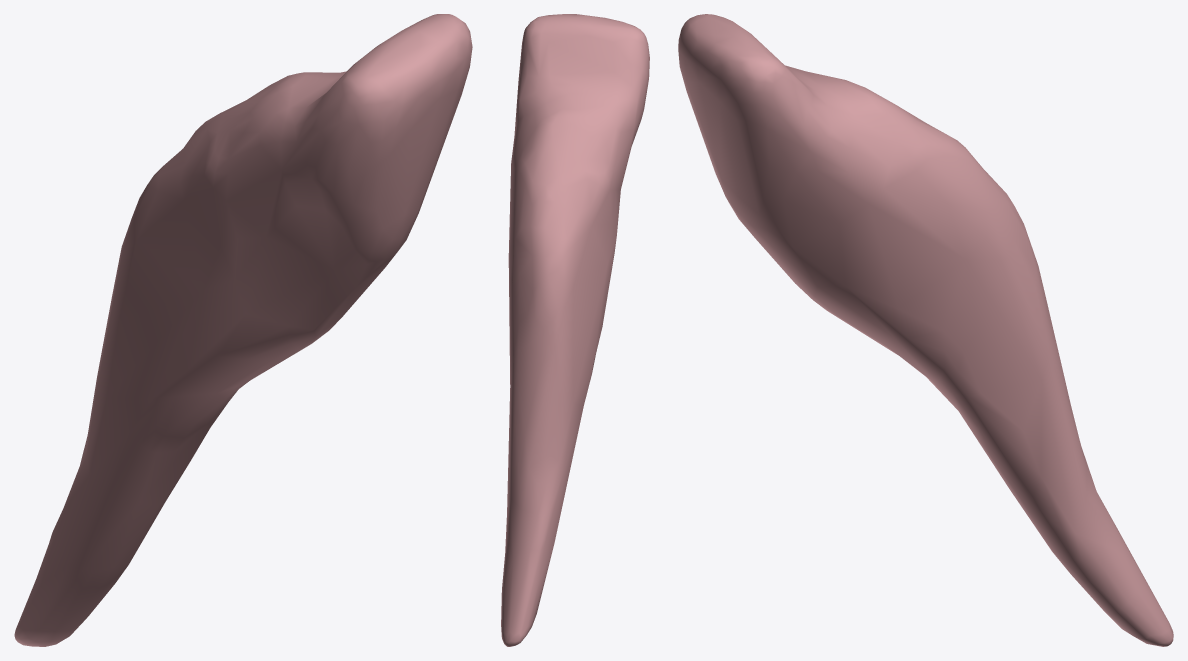
Rendered from fma57141_fj1259.glb.
The picture shows the model from 3 angles, left to right: view 1: azimuth 30°, elevation 25°; view 2: azimuth 150°, elevation 25°; view 3: azimuth 270°, elevation 25°; orthographic projection. The views are drawn at different scales.
Parts seen in each view (by area): view 1: FMA57141_FJ1259; view 2: FMA57141_FJ1259; view 3: FMA57141_FJ1259.
Part boxes in pixels (x1,y1,x2,y2): FMA57141_FJ1259: [14, 14, 472, 646]; FMA57141_FJ1259: [501, 14, 649, 646]; FMA57141_FJ1259: [678, 14, 1173, 646].
Bounding box in the file's own units: 0.00786 × 0.0251 × 0.0168.
